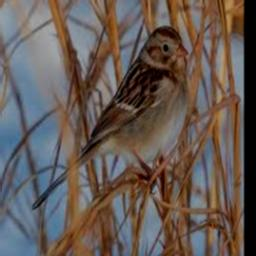Sparrow: (31, 25, 188, 211)
